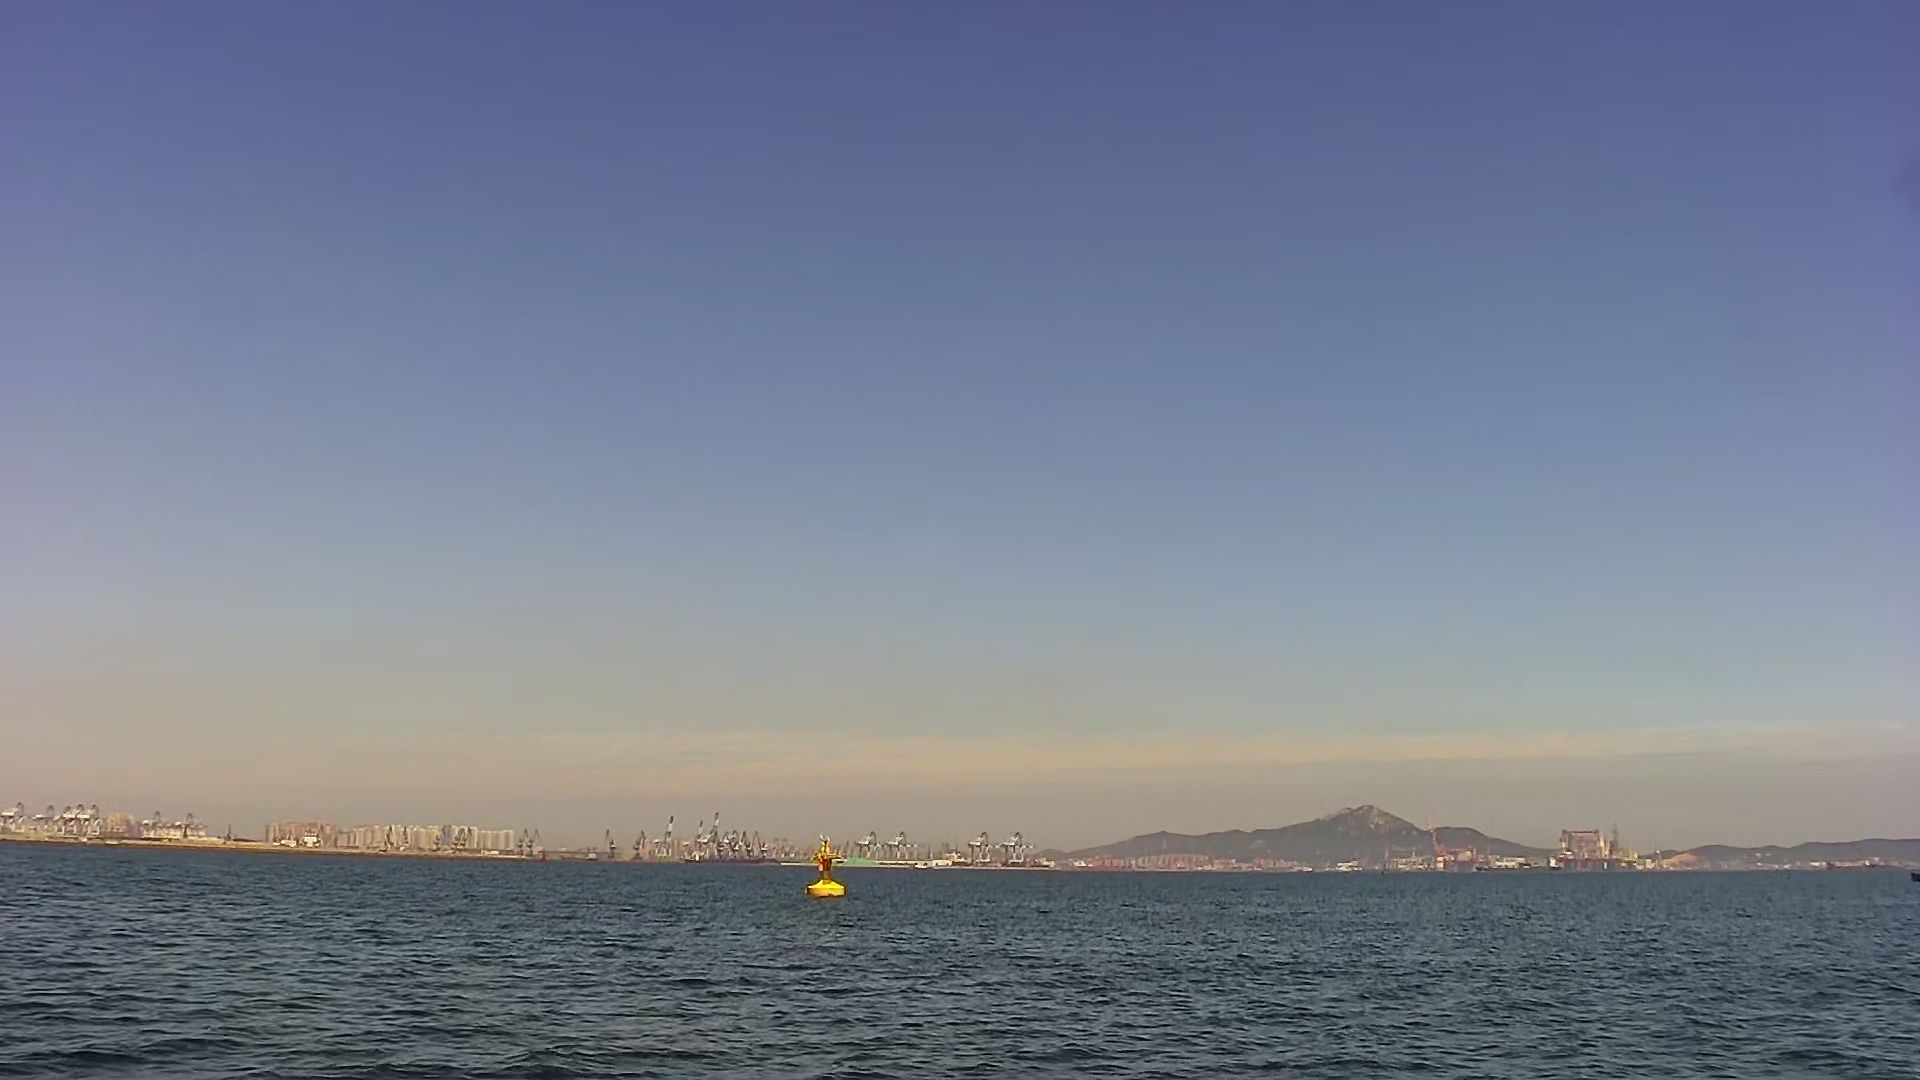buoy: (811, 851, 845, 895)
